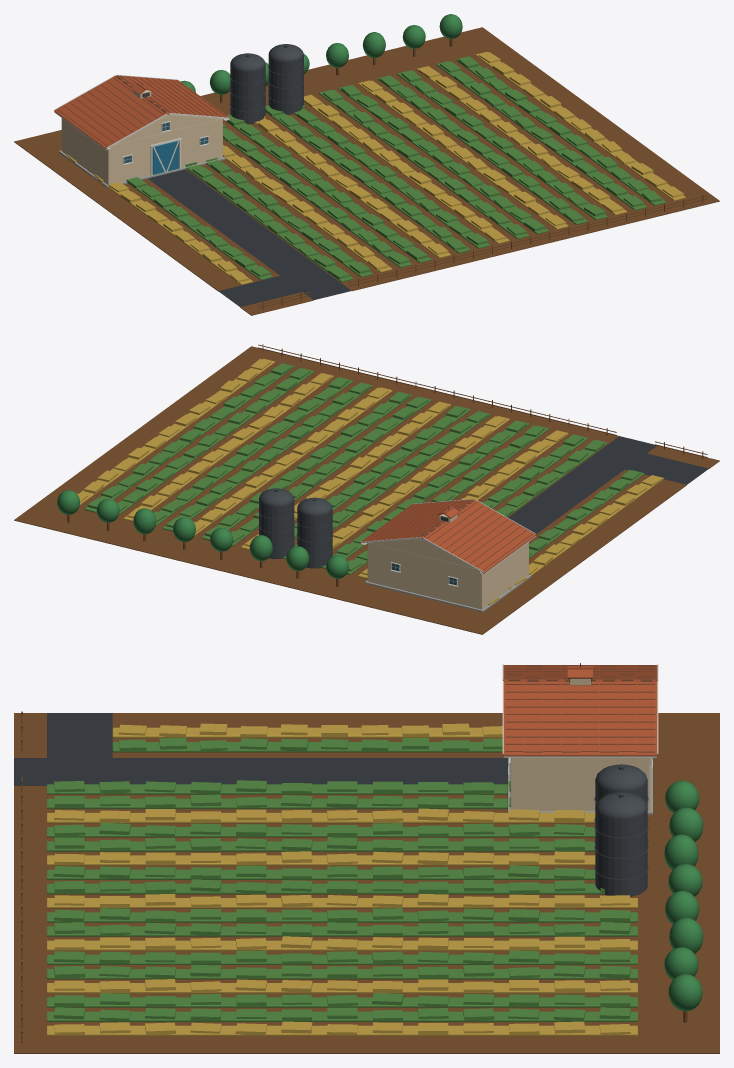
The model's file is rorng_city_infill_farmstead_98x86.glb.
The picture shows the model from 3 angles, top to bottom: view 1: azimuth 30°, elevation 25°; view 2: azimuth 150°, elevation 25°; view 3: azimuth 270°, elevation 25°; orthographic projection. The views are drawn at different scales.
Parts seen in each view (by area): view 1: rorng_city_infill_farmstead_98x86_lod0; view 2: rorng_city_infill_farmstead_98x86_lod0; view 3: rorng_city_infill_farmstead_98x86_lod0.
Part boxes in pixels (<box>): rorng_city_infill_farmstead_98x86_lod0: <box>14,14,719,315</box>; rorng_city_infill_farmstead_98x86_lod0: <box>14,344,719,634</box>; rorng_city_infill_farmstead_98x86_lod0: <box>14,663,719,1053</box>.
Size of what is drawn, in the model's own units: 98 by 14.72 by 86.
